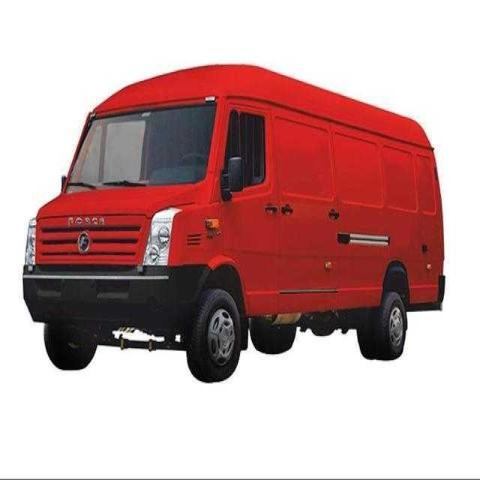van: (22, 63, 445, 384)
